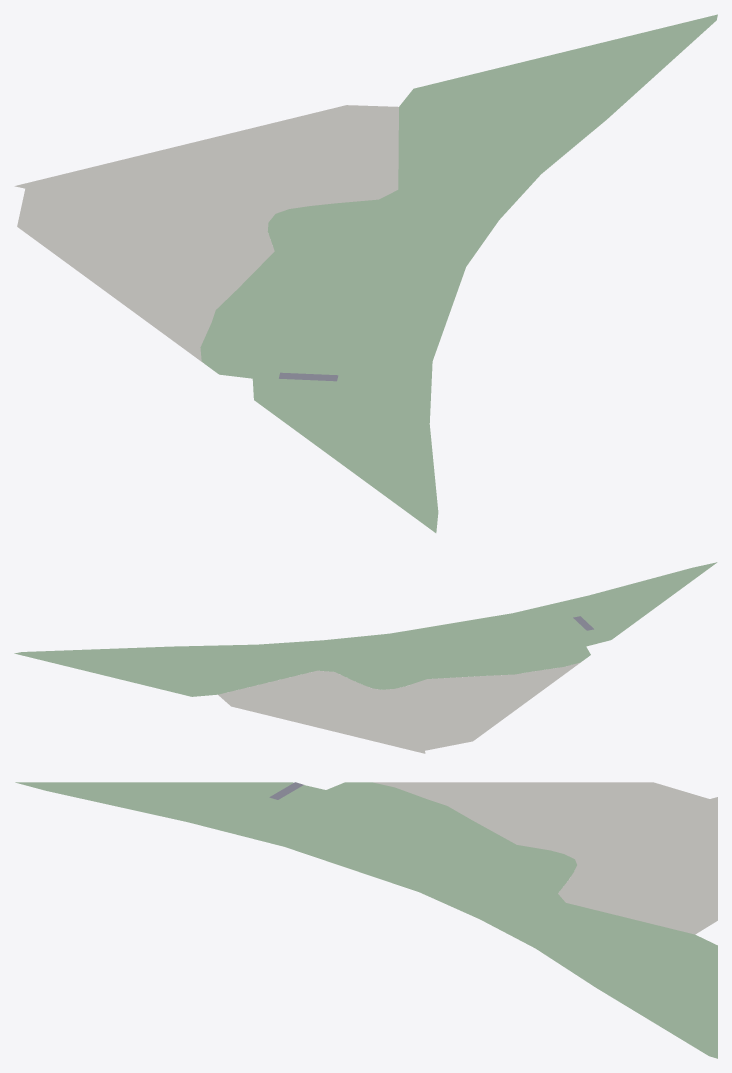
Rendered from 110_115_mid.glb.
3 renders of one model, top to bottom at view 1: azimuth 30°, elevation 25°; view 2: azimuth 150°, elevation 25°; view 3: azimuth 270°, elevation 25°, orthographic. The views are drawn at different scales.
Bounding box in the file's own units: 415 × 7.11 × 446.
